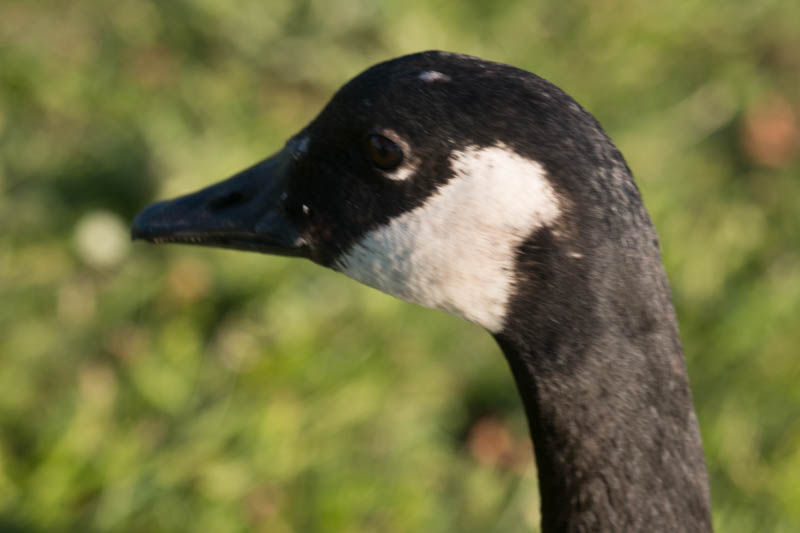goose-head: (128, 50, 661, 340)
